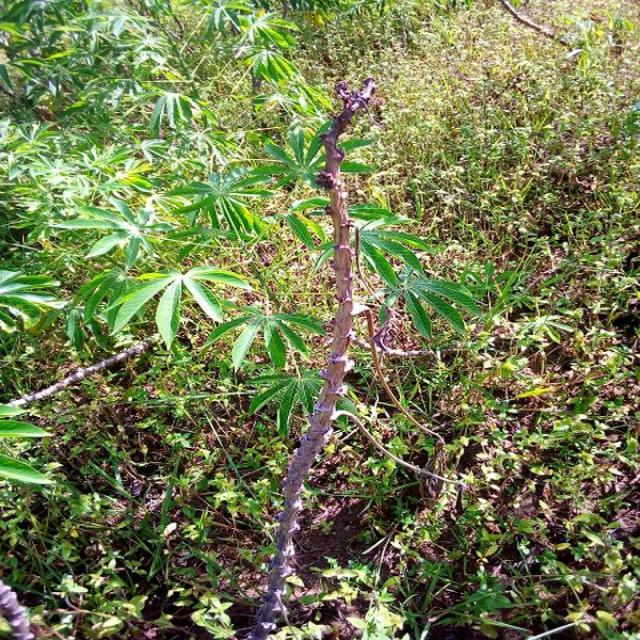cassava leaf: (108, 261, 254, 351)
